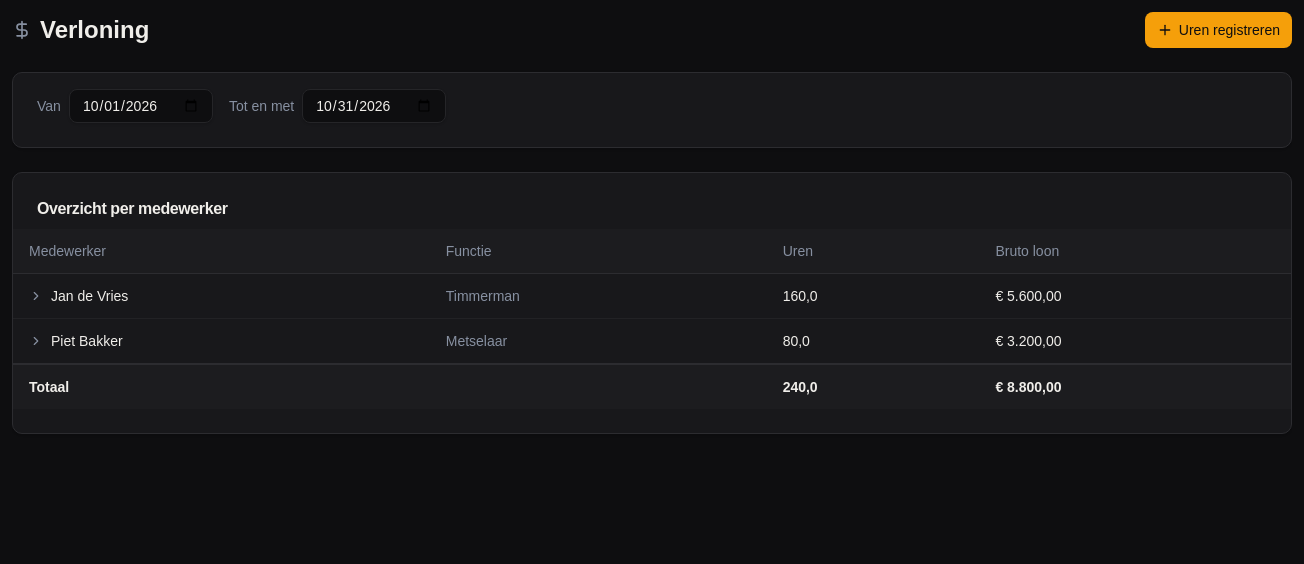
Test: PayrollOverviewPage — expand row shows project breakdown › clicking expanded row collapses it
Expected: the text "Jan de Vries" is shown, [51,286,128,306]
Click the row with test id "row-staff-1" at (652, 296), box [13,274,1291,318]
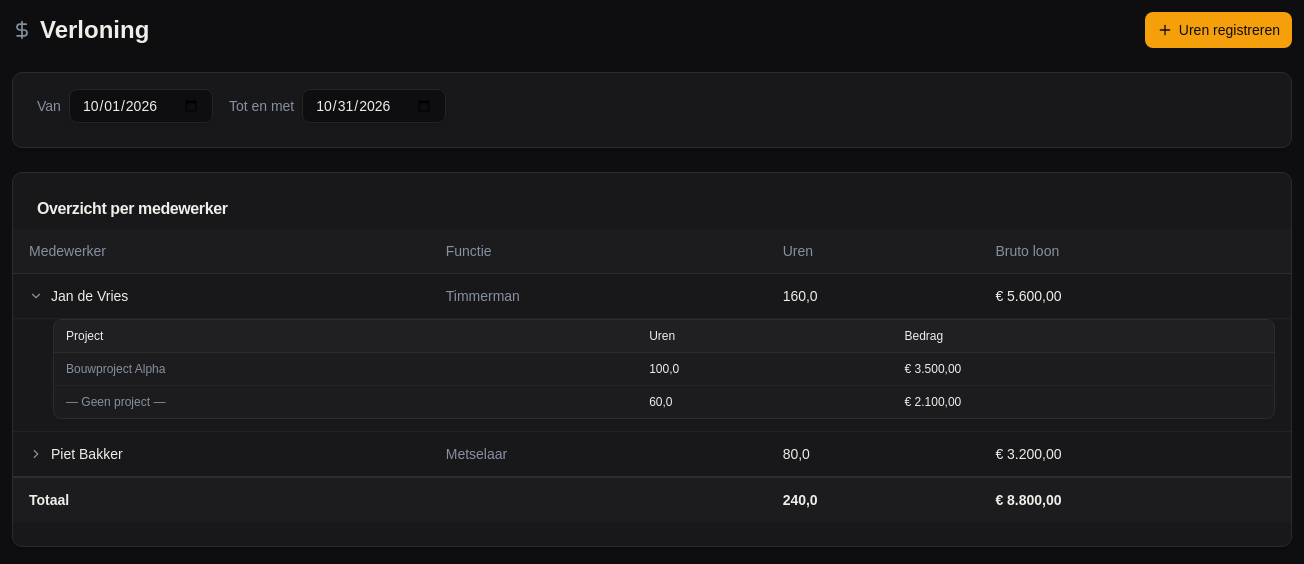
Expected: the row with test id "breakdown-staff-1" is shown, [13,318,1291,432]
Click the row with test id "row-staff-1" at (652, 296), box [13,274,1291,318]
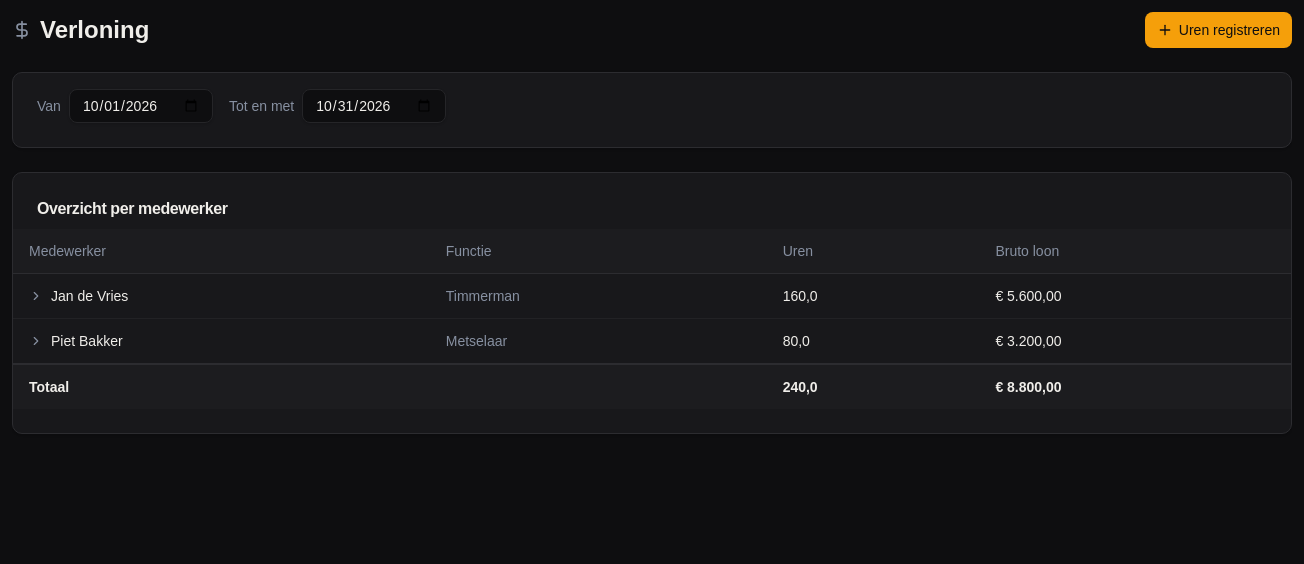
Expected: the row with test id "breakdown-staff-1" is gone
